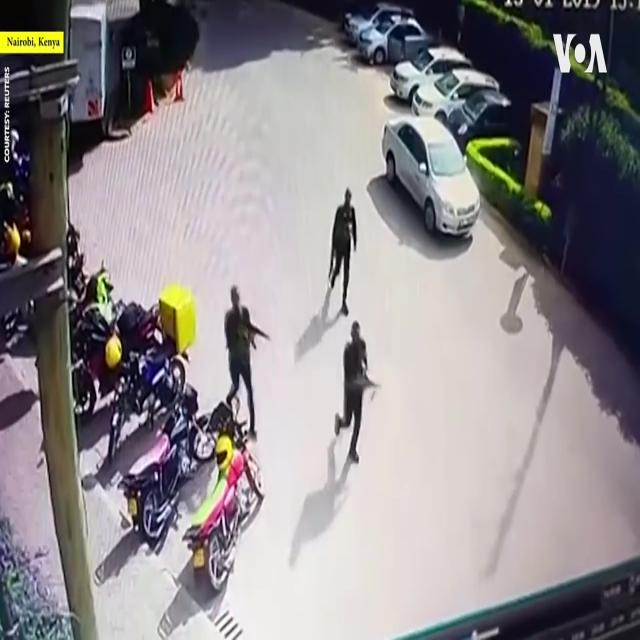Weapon: (236, 315, 276, 358), (348, 372, 384, 414), (326, 228, 340, 284)
